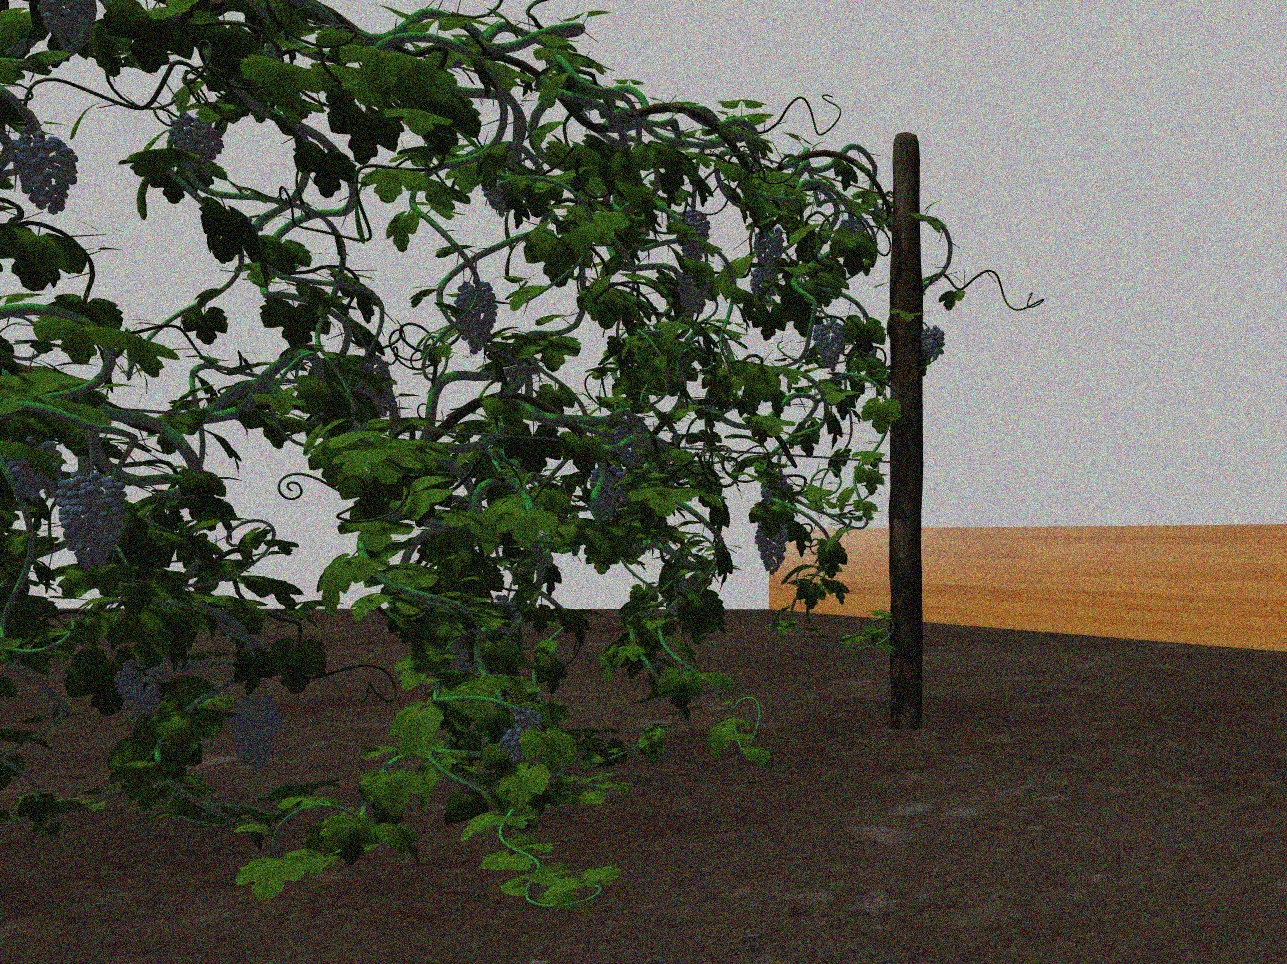grape: (54, 469, 128, 571), (9, 133, 78, 214), (229, 691, 281, 775), (6, 438, 63, 503), (114, 659, 171, 721), (454, 280, 498, 354), (169, 115, 224, 171), (501, 709, 541, 764), (39, 6, 90, 48), (589, 465, 625, 523), (613, 419, 651, 470), (754, 521, 790, 574), (676, 209, 711, 261), (812, 316, 844, 372), (677, 272, 711, 313), (754, 228, 785, 267), (749, 266, 778, 301), (921, 325, 947, 361)
